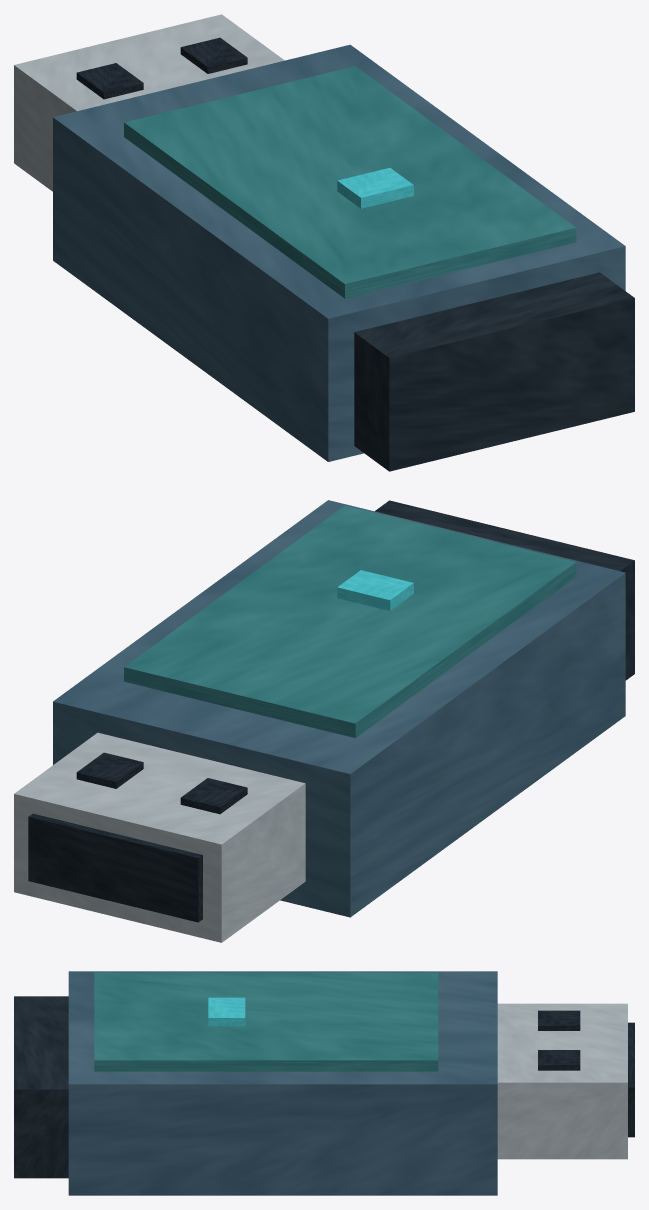
File: Memoria_USB.fbx
3 renders of one model, top to bottom at view 1: azimuth 30°, elevation 25°; view 2: azimuth 150°, elevation 25°; view 3: azimuth 270°, elevation 25°, orthographic. The views are drawn at different scales.
Visible parts, largest first — view 1: Memoria_USB; view 2: Memoria_USB; view 3: Memoria_USB.
Boxes of the visible parts, left/top/right/bottom form: Memoria_USB: left=14, top=14, right=634, bottom=471; Memoria_USB: left=14, top=500, right=634, bottom=942; Memoria_USB: left=14, top=971, right=634, bottom=1195.
Size of the model in its own units: 0.3102 by 0.72 by 0.1681.
1 material, 1 textured.
